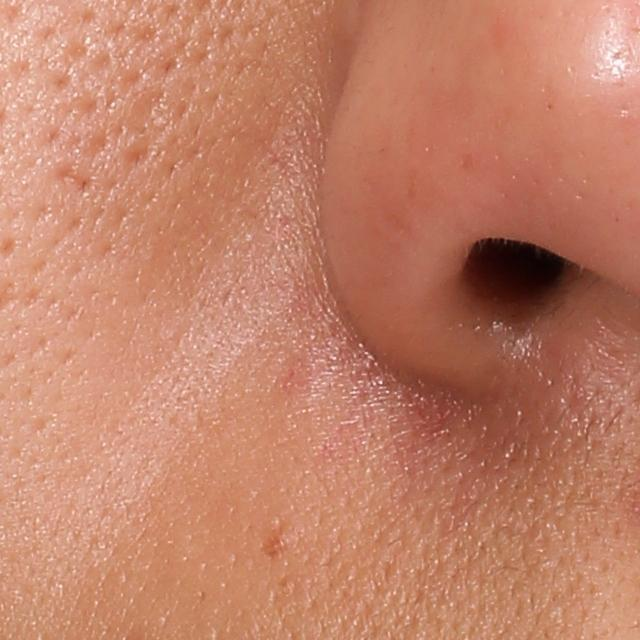atrophic_scar: (47, 162, 99, 200)
nevus: (259, 533, 288, 561)
